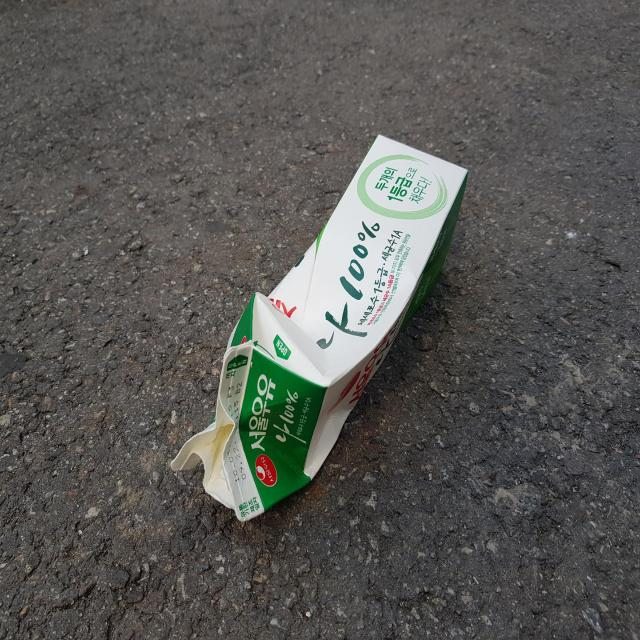paperpack: (171, 135, 468, 522)
